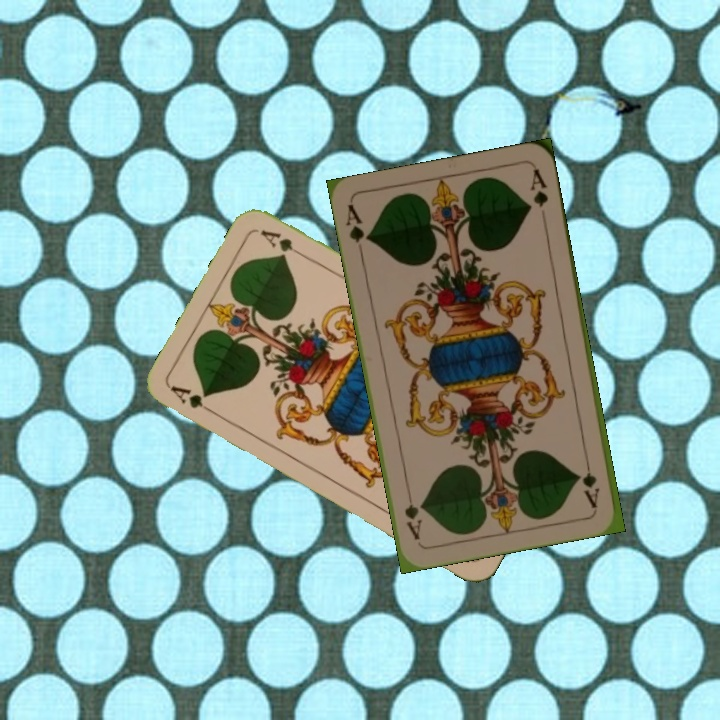GA: (167, 381, 221, 420), (341, 201, 372, 259), (579, 451, 602, 511)
